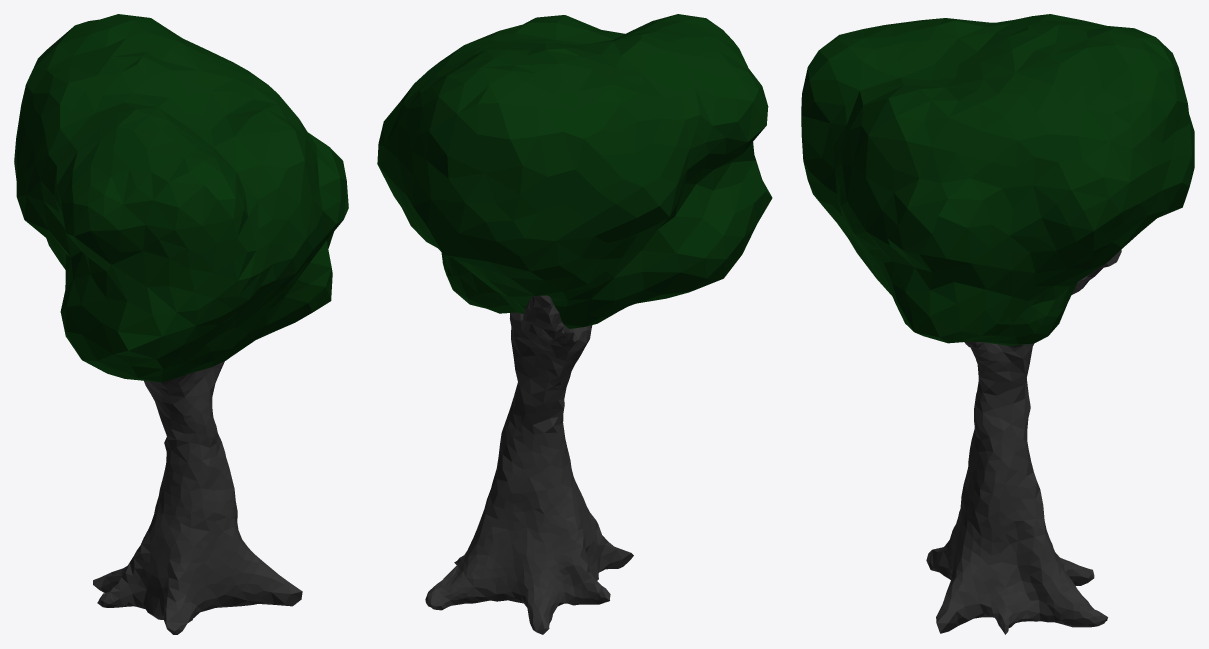
The model's file is Tree.glb.
3 views of the same model, side by side, from view 1: azimuth 30°, elevation 25°; view 2: azimuth 150°, elevation 25°; view 3: azimuth 270°, elevation 25° (orthographic). The views are drawn at different scales.
Visible parts, largest first — view 1: Leaves, Trunk; view 2: Leaves, Trunk; view 3: Leaves, Trunk.
Boxes of the visible parts, x1,y1,x2,y2 form: Leaves: (14, 14, 348, 382); Trunk: (93, 361, 302, 634); Leaves: (377, 14, 772, 328); Trunk: (425, 295, 633, 634); Leaves: (801, 14, 1194, 345); Trunk: (926, 249, 1121, 634).
Size of the model in its own units: 5.63 by 10.13 by 6.44.
